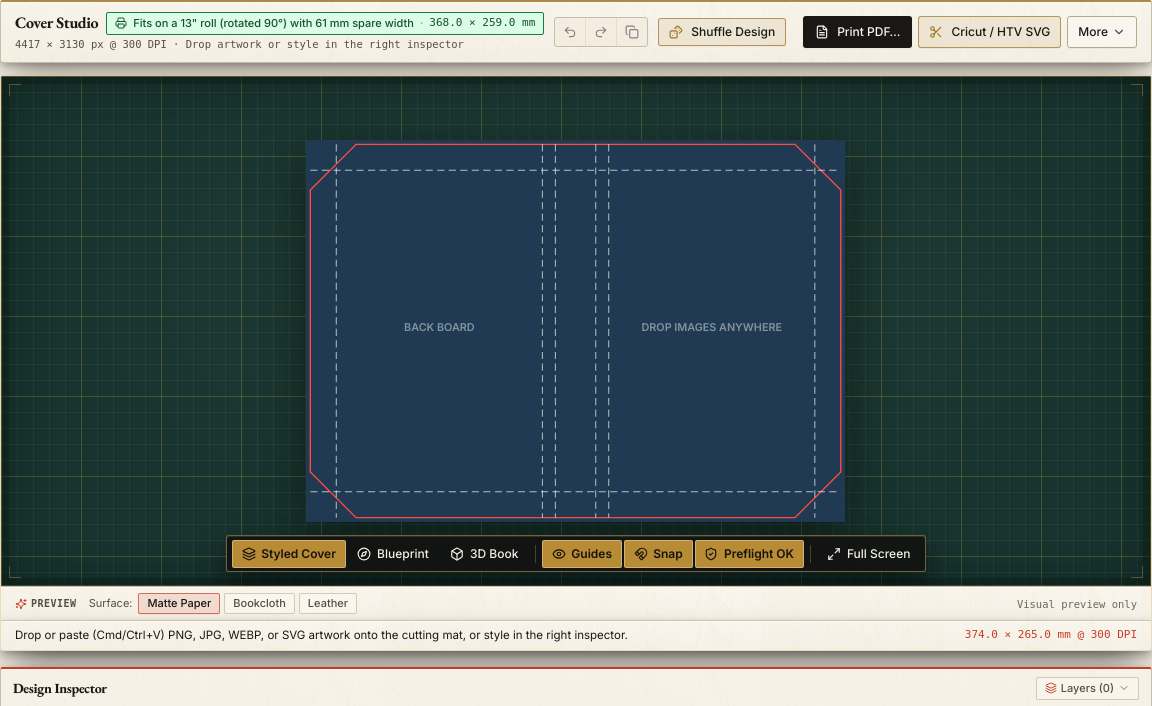
it: CoverStyler › toggles between 2D Flat Wrap and interactive 3D Book Preview with angle presets
Expected: the picture with test id "studio-preview-svg" is shown, [306,140,846,522]
Click the button with test id "studio-view-3d-btn": (484, 554) [440,540,528,568]
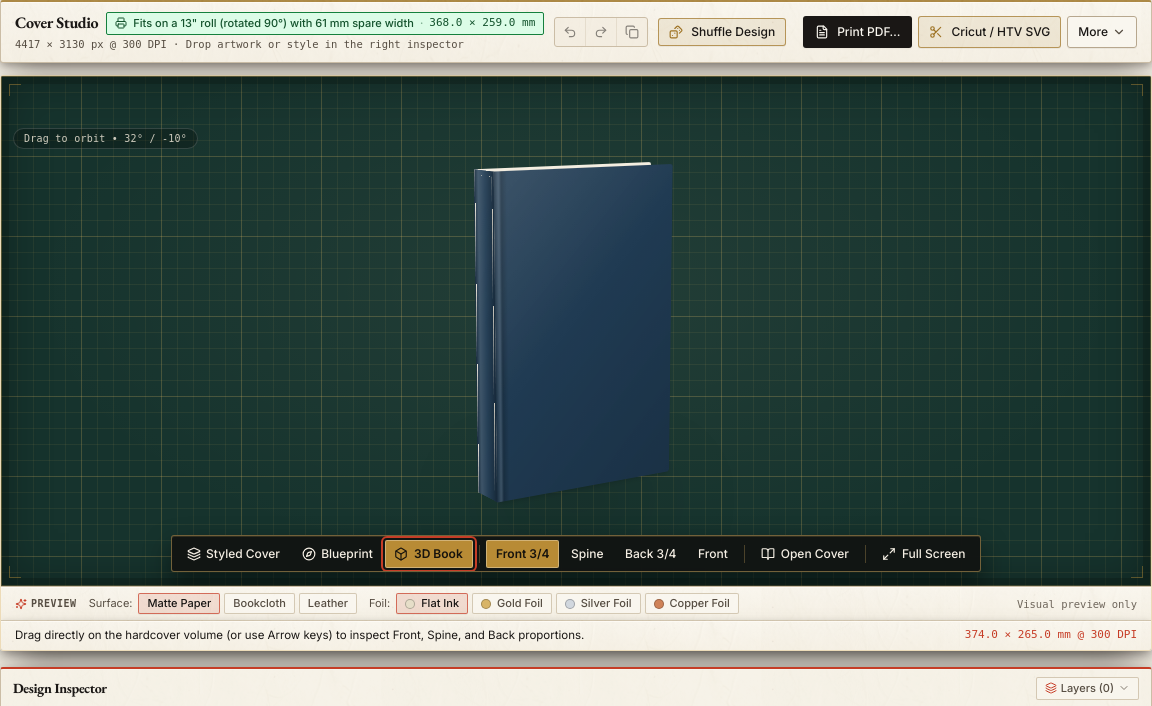
Now the element with test id "book3d-stage" is shown, box [13,128,694,518]
Click the button with test id "book3d-preset-spine": (587, 554) [561,540,613,568]
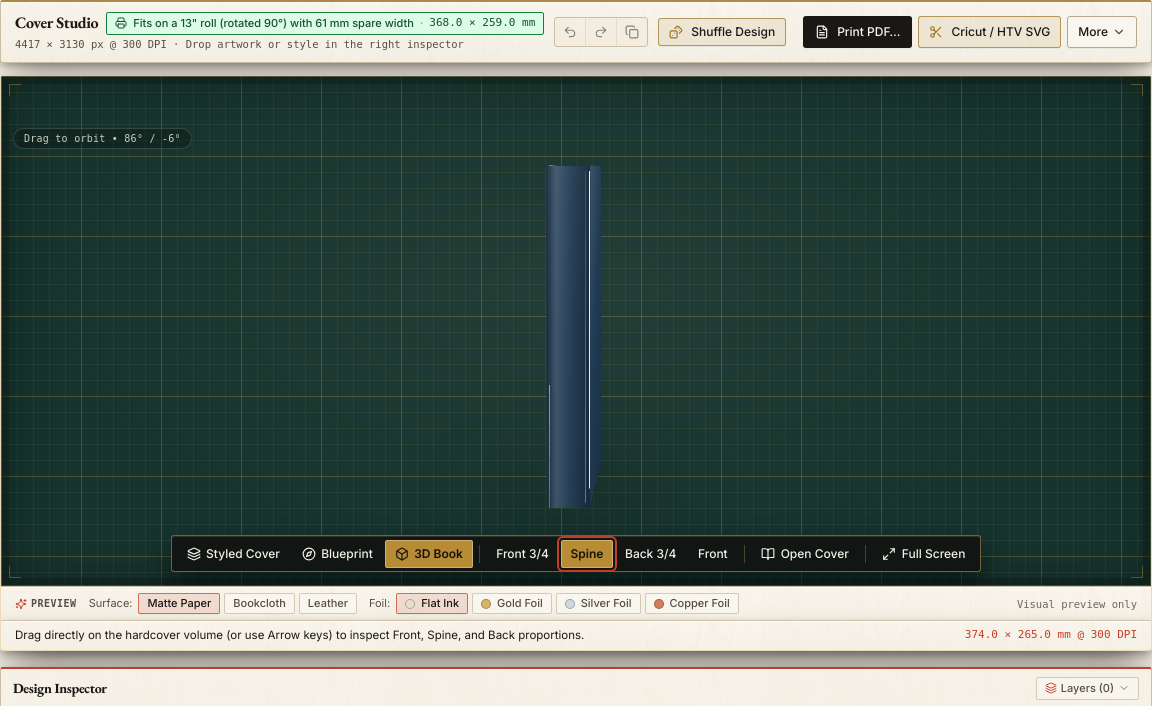
Now the button with test id "book3d-preset-spine" is pressed, box [561,540,613,568]
Click the button with test id "studio-view-2d-btn": (233, 554) [177,540,290,568]
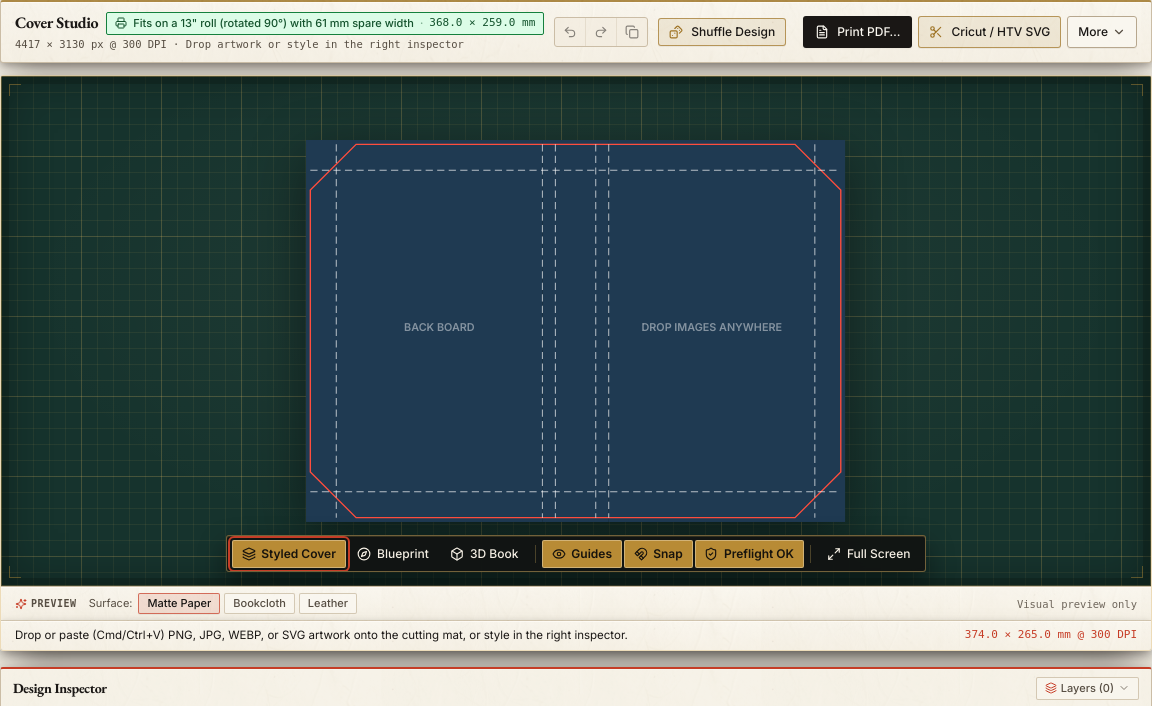
Now the picture with test id "studio-preview-svg" is shown, box [306,140,846,522]
